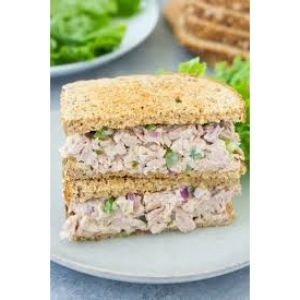tuna_brain food: (60, 81, 243, 246)
